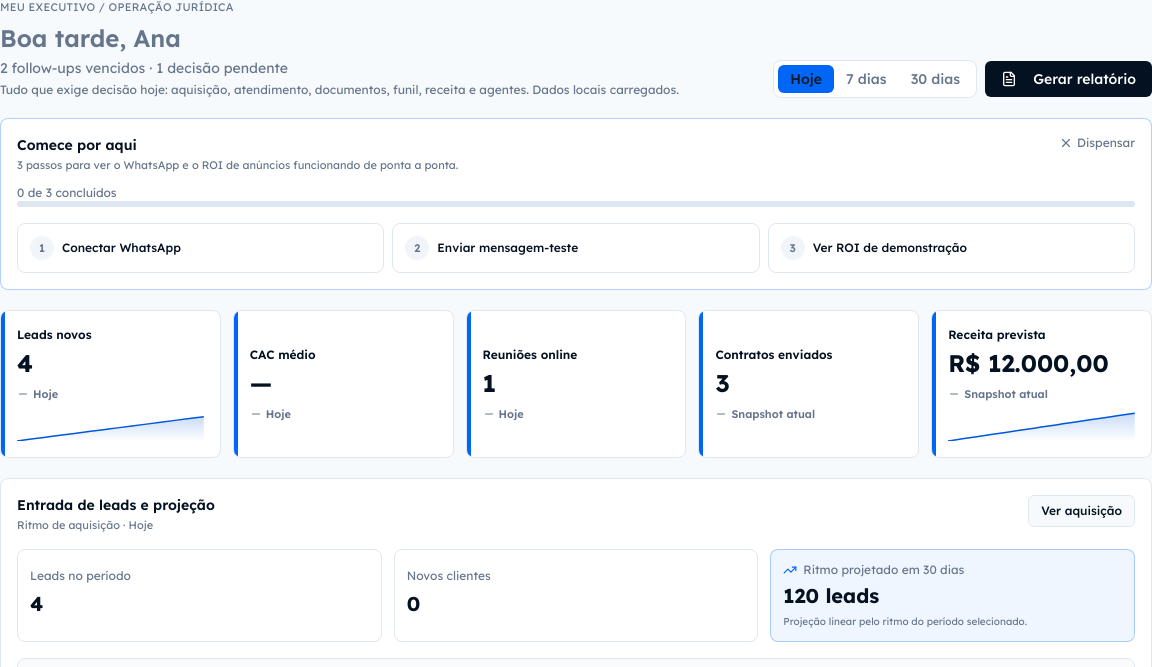
Test: HomePage › dismisses the aha card and persists the dismissal in localStorage
Expected: the element with test id "aha-onboarding-card" is shown, [0,118,1151,290]
Click the button "Dispensar". click: (1097, 143)
box: [1059,135,1135,151]
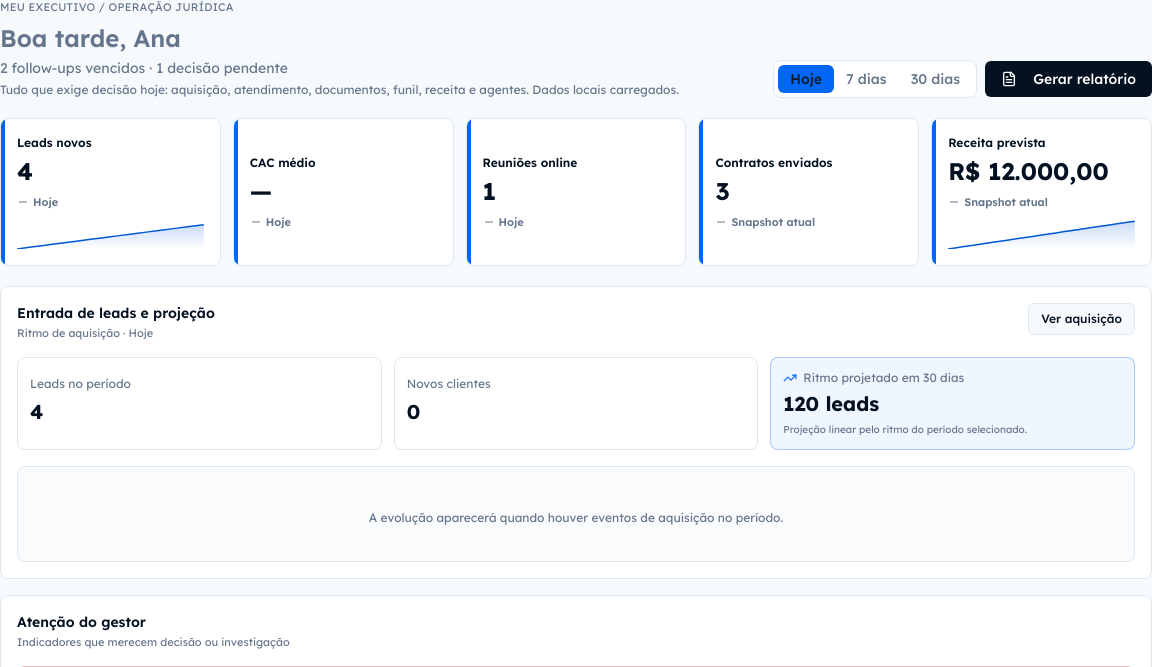
Expected: the element with test id "aha-onboarding-card" is gone
